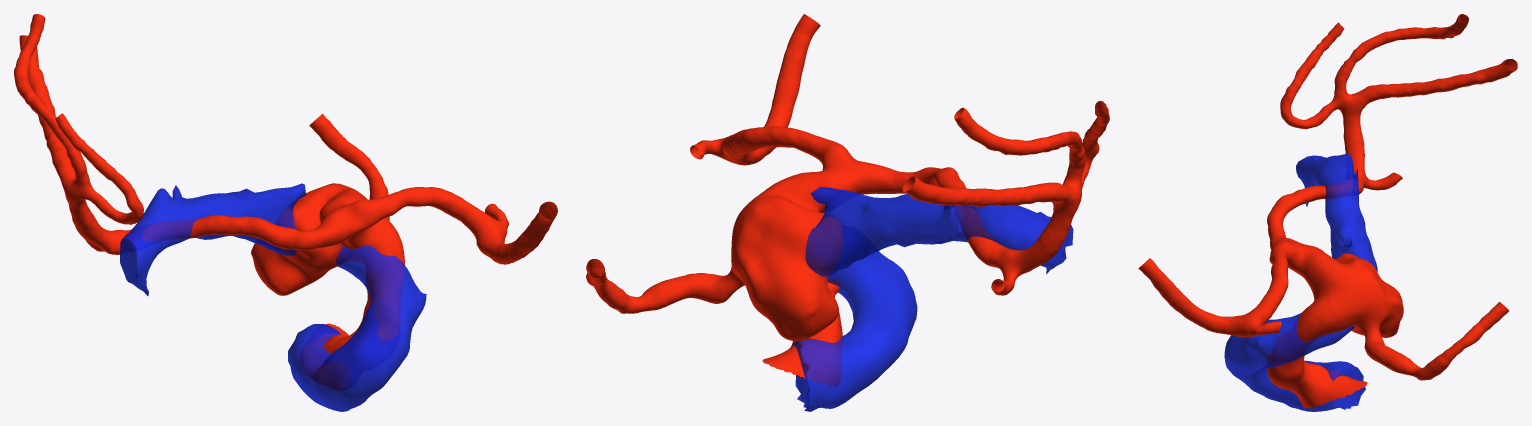
3 renders of one model, left to right at view 1: azimuth 30°, elevation 25°; view 2: azimuth 150°, elevation 25°; view 3: azimuth 270°, elevation 25°, orthographic. The views are drawn at different scales.
Parts seen in each view (by area): view 1: Object_2, Object_4, Object_3; view 2: Object_2, Object_4, Object_3; view 3: Object_2, Object_4, Object_3.
Part boxes in pixels (x1,y1,x2,y2): Object_2: (14,14,557,390); Object_4: (120,183,426,411); Object_3: (120,183,425,376); Object_2: (586,14,1109,386); Object_4: (794,187,1072,411); Object_3: (793,188,1073,411); Object_2: (1138,14,1517,408); Object_4: (1224,154,1377,411); Object_3: (1257,156,1365,409).
Bounding box in the file's own units: 32.55 × 28.58 × 31.19.
